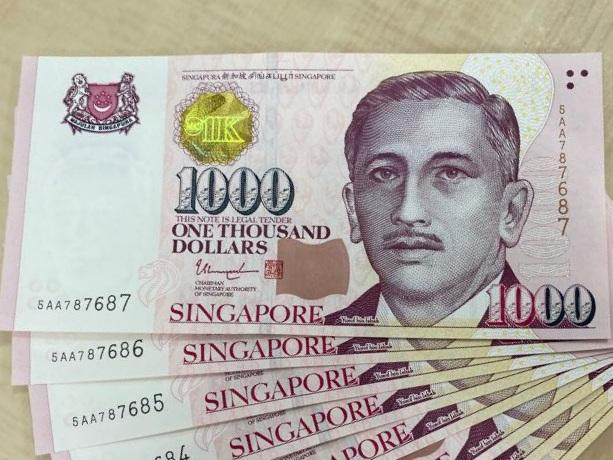1000SingaporeDollar: (23, 56, 598, 333)
